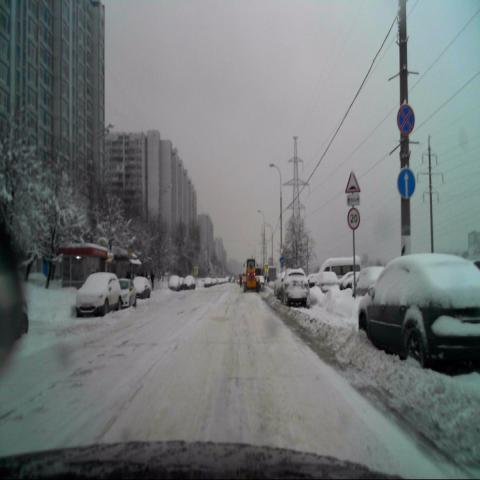1_17: (344, 168, 361, 194)
